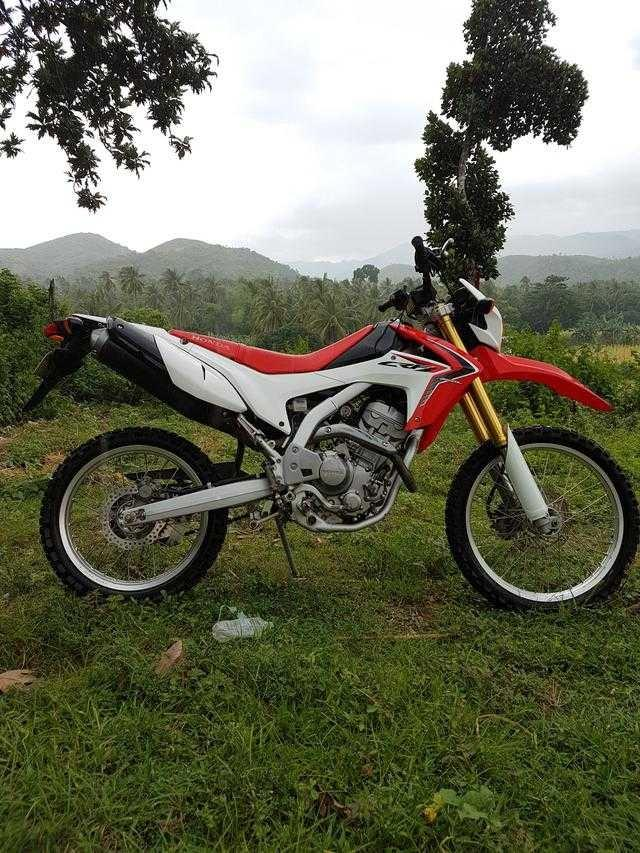motorbike: (27, 235, 640, 610)
